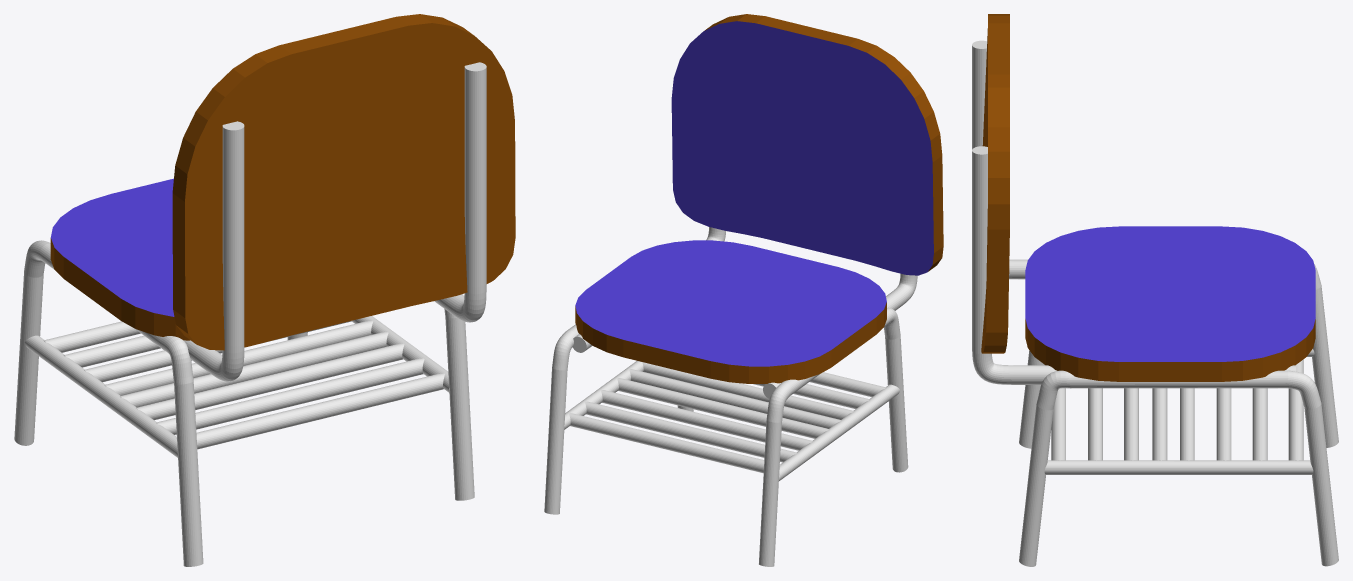
Rendered from Silla.fbx.
3 renders of one model, left to right at view 1: azimuth 30°, elevation 25°; view 2: azimuth 150°, elevation 25°; view 3: azimuth 270°, elevation 25°, orthographic. The views are drawn at different scales.
Parts seen in each view (by area): view 1: Cube.001, Grilla de abajo, Cube, Patas de abajo, patas de arriba; view 2: Cube.001, Cube, Grilla de abajo, Patas de abajo, patas de arriba; view 3: Cube, Grilla de abajo, Patas de abajo, Cube.001, patas de arriba.
Part boxes in pixels (<box>): Cube.001: <box>172,14,515,350</box>; Grilla de abajo: <box>24,316,449,457</box>; Cube: <box>50,178,190,340</box>; Patas de abajo: <box>14,240,474,566</box>; patas de arriba: <box>184,62,486,381</box>; Cube.001: <box>671,14,943,275</box>; Cube: <box>575,240,886,383</box>; Grilla de abajo: <box>564,361,899,480</box>; Patas de abajo: <box>544,307,908,566</box>; patas de arriba: <box>572,227,917,398</box>; Cube: <box>1025,226,1315,381</box>; Grilla de abajo: <box>1044,349,1314,474</box>; Patas de abajo: <box>1019,264,1338,566</box>; Cube.001: <box>981,14,1009,353</box>; patas de arriba: <box>972,40,1295,384</box>.
Bounding box in the file's own units: 187 × 276 × 202.
